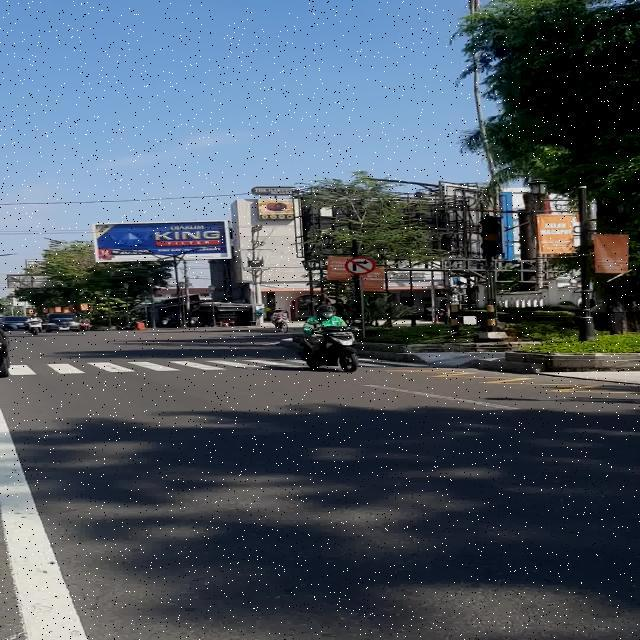Dilarang Belok Kanan: (344, 256, 376, 274)
